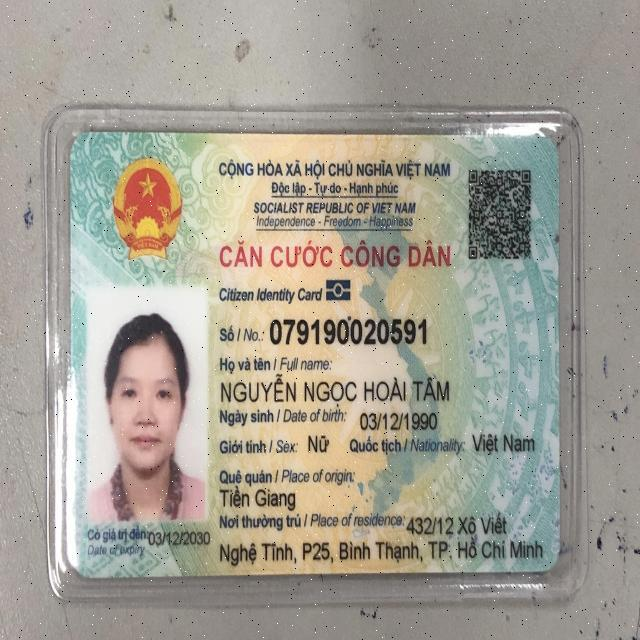current_place: (217, 537, 546, 564), (405, 510, 511, 538)
dob: (356, 408, 439, 432)
expire_date: (146, 525, 210, 551)
gender: (305, 429, 338, 455)
id: (266, 312, 430, 349)
name: (218, 372, 452, 405)
nationality: (464, 426, 539, 459)
origin_place: (217, 482, 311, 511)
qr: (464, 162, 539, 266)
